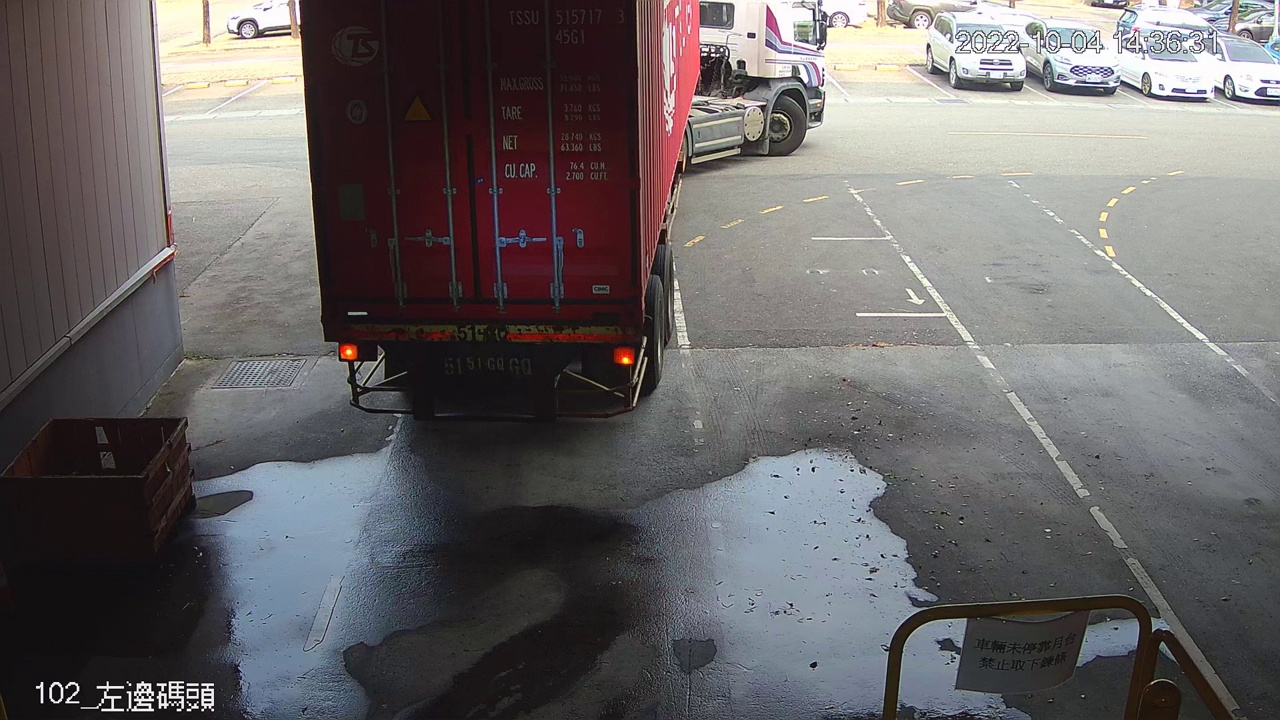container: (503, 1, 630, 51)
